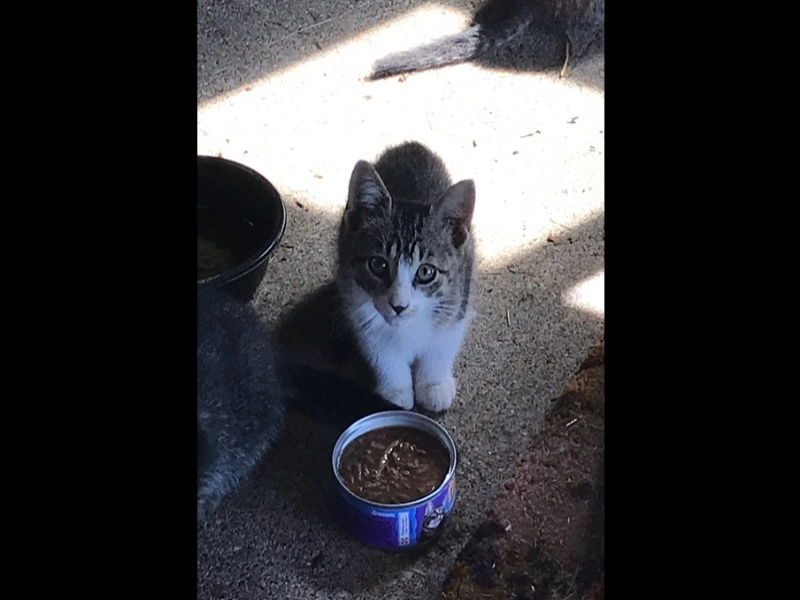cat: (332, 139, 477, 412)
